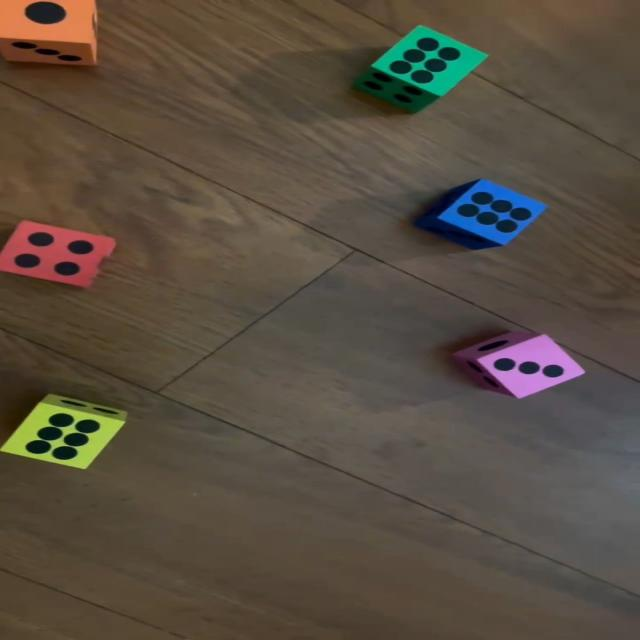blue_block: (419, 179, 549, 248)
red_block: (0, 221, 120, 288)
